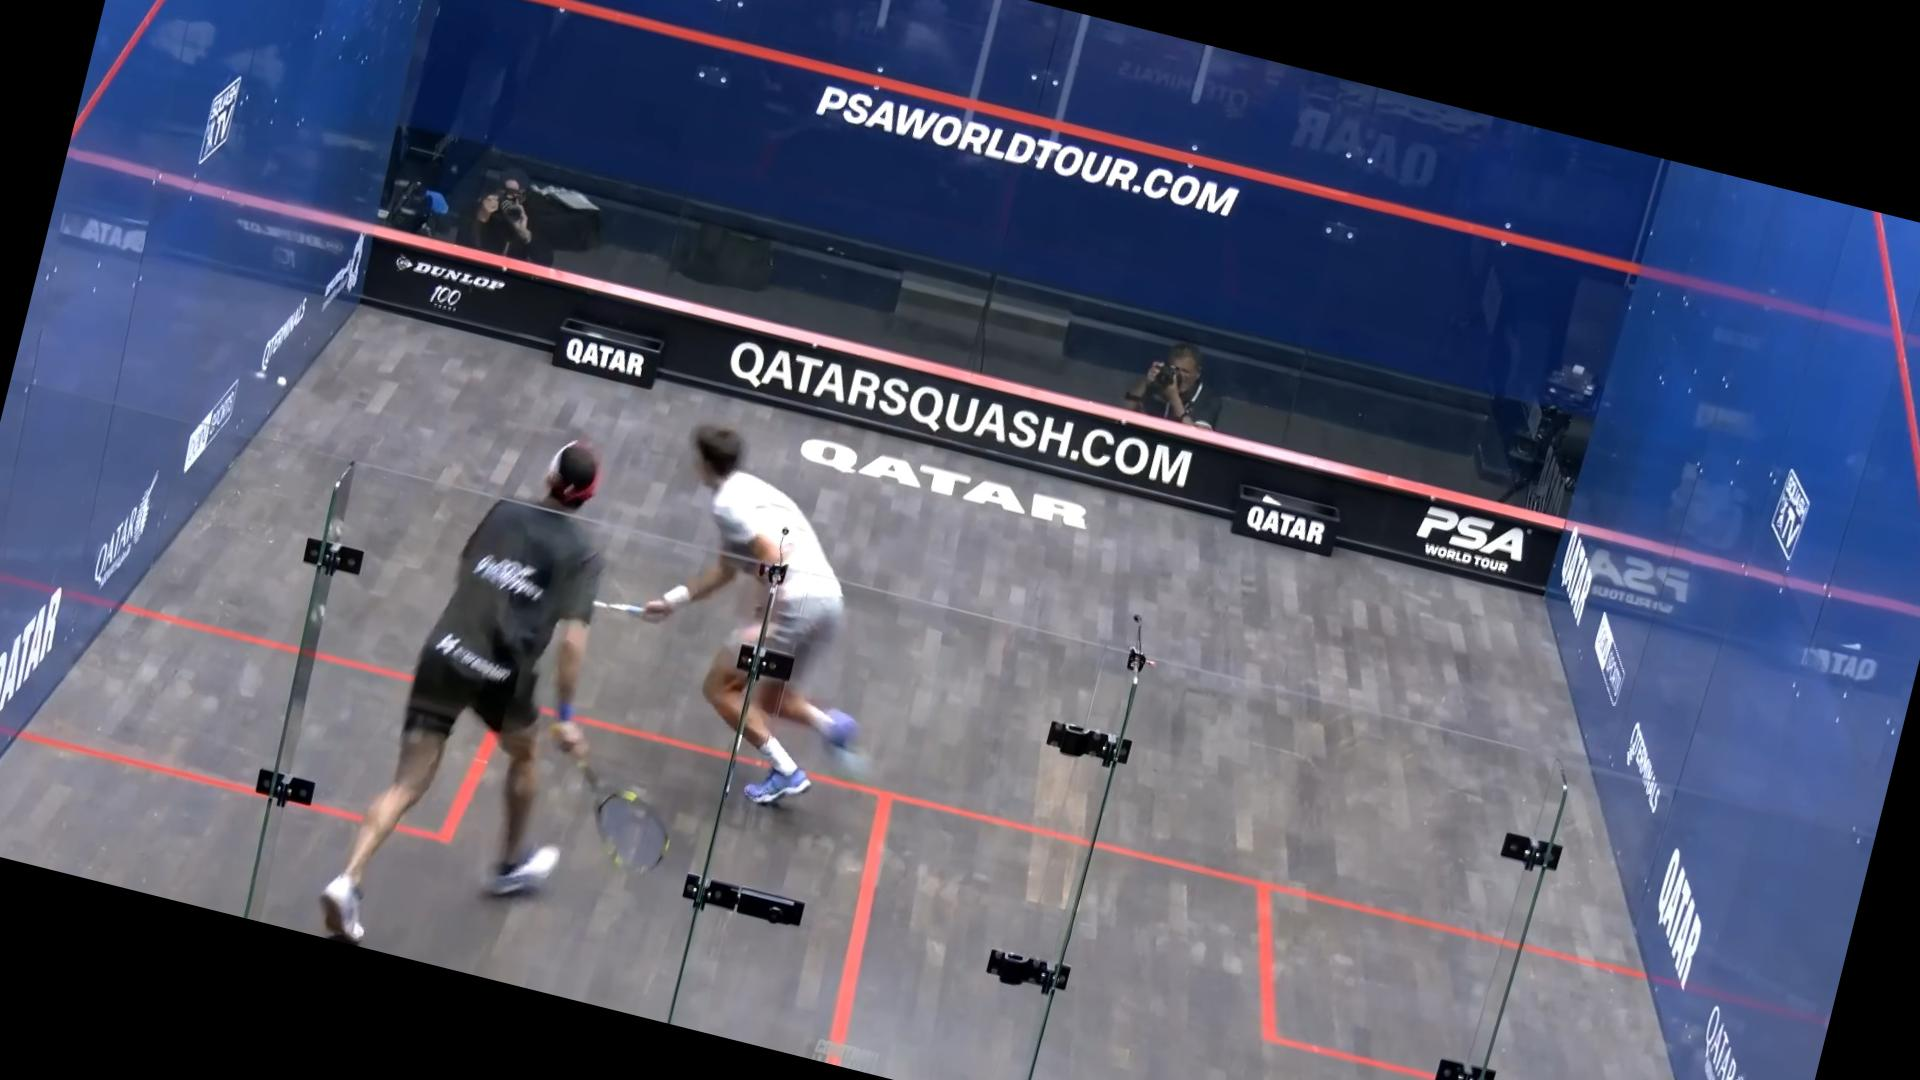Racket: (554, 753, 692, 890)
